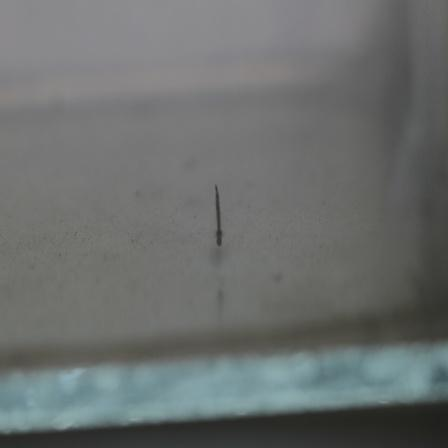Jentik-Nyamuk: (209, 182, 227, 249)
